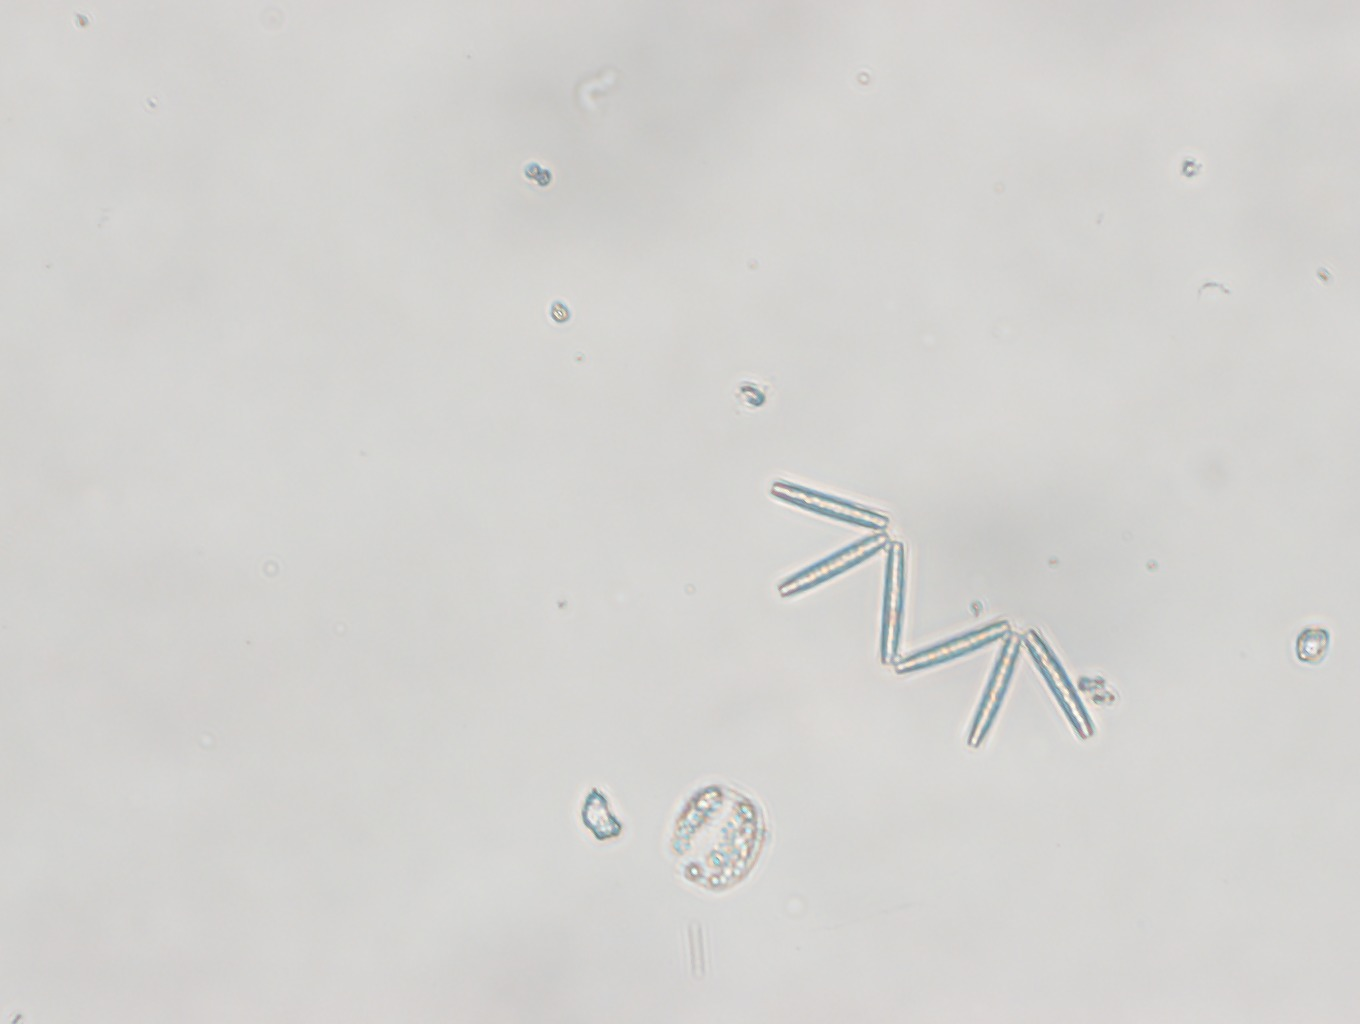thalassionema nitzschioides: (765, 473, 1098, 749)
